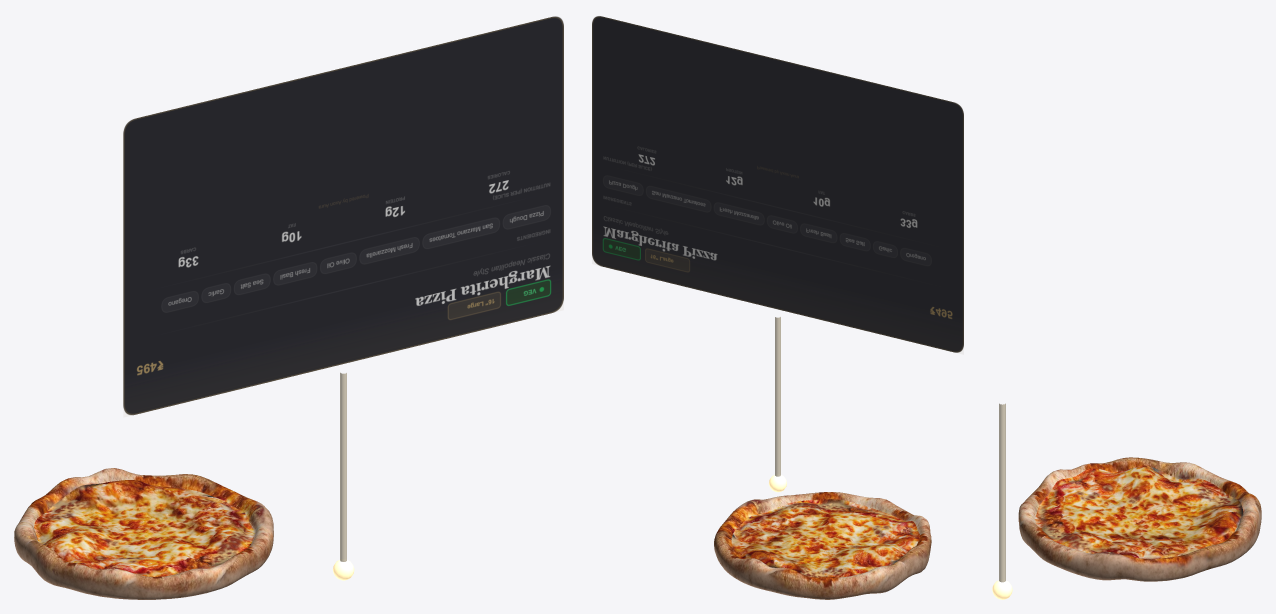
Rendered from pizza-ar.glb.
The picture shows the model from 3 angles, left to right: view 1: azimuth 30°, elevation 25°; view 2: azimuth 150°, elevation 25°; view 3: azimuth 270°, elevation 25°; orthographic projection. The views are drawn at different scales.
Visible parts, largest first — view 1: InfoCard, piza_low_01:Group259_0, ConnectorPole; view 2: InfoCard, piza_low_01:Group259_0, ConnectorPole; view 3: piza_low_01:Group259_0, ConnectorPole.
Part boxes in pixels (x1=…): InfoCard: x1=123, y1=16, x2=563, y2=415; piza_low_01:Group259_0: x1=14, y1=468, x2=273, y2=599; ConnectorPole: x1=340, y1=372, x2=346, y2=561; InfoCard: x1=592, y1=16, x2=963, y2=352; piza_low_01:Group259_0: x1=714, y1=492, x2=931, y2=599; ConnectorPole: x1=775, y1=317, x2=780, y2=476; piza_low_01:Group259_0: x1=1018, y1=457, x2=1261, y2=581; ConnectorPole: x1=999, y1=403, x2=1005, y2=582.
Size of the model in its own units: 0.2917 by 0.311 by 0.1572.
4 materials, 2 textured.
